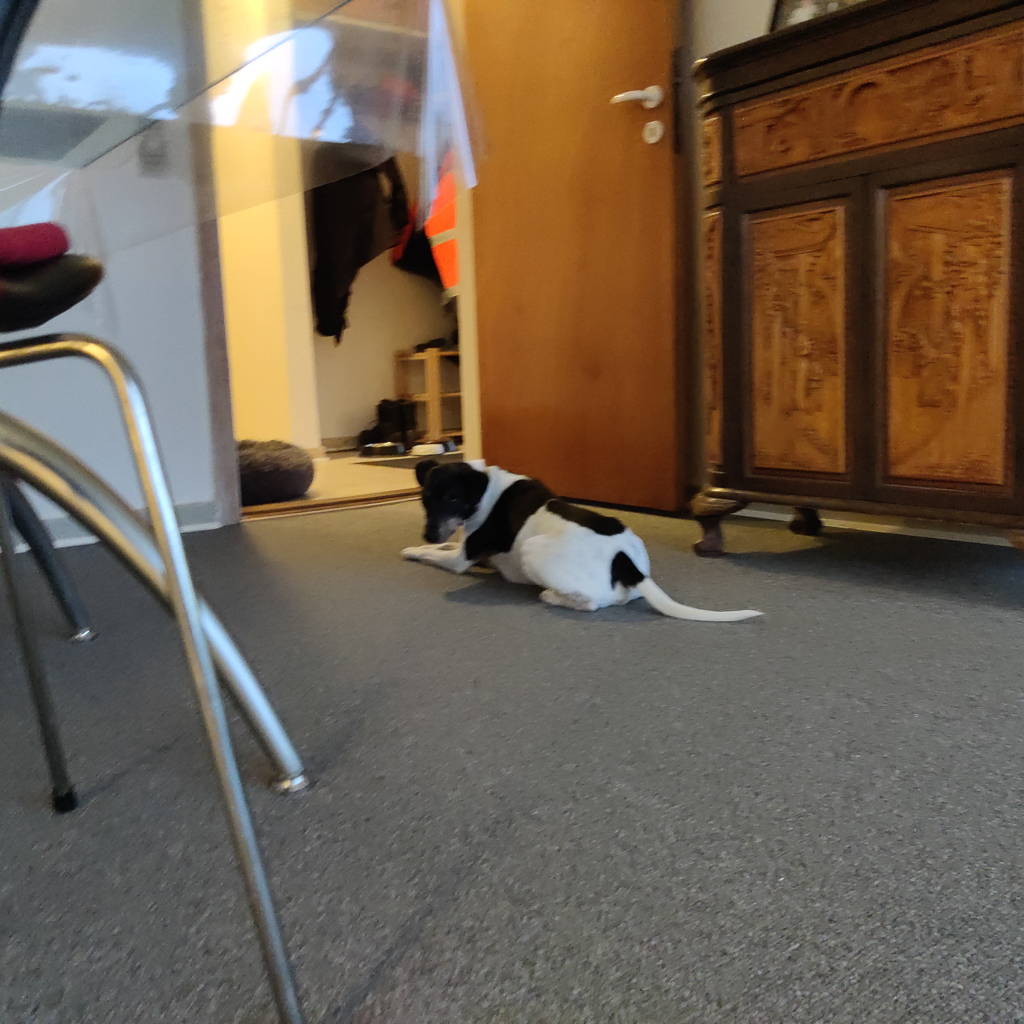Dog: (394, 454, 771, 628)
